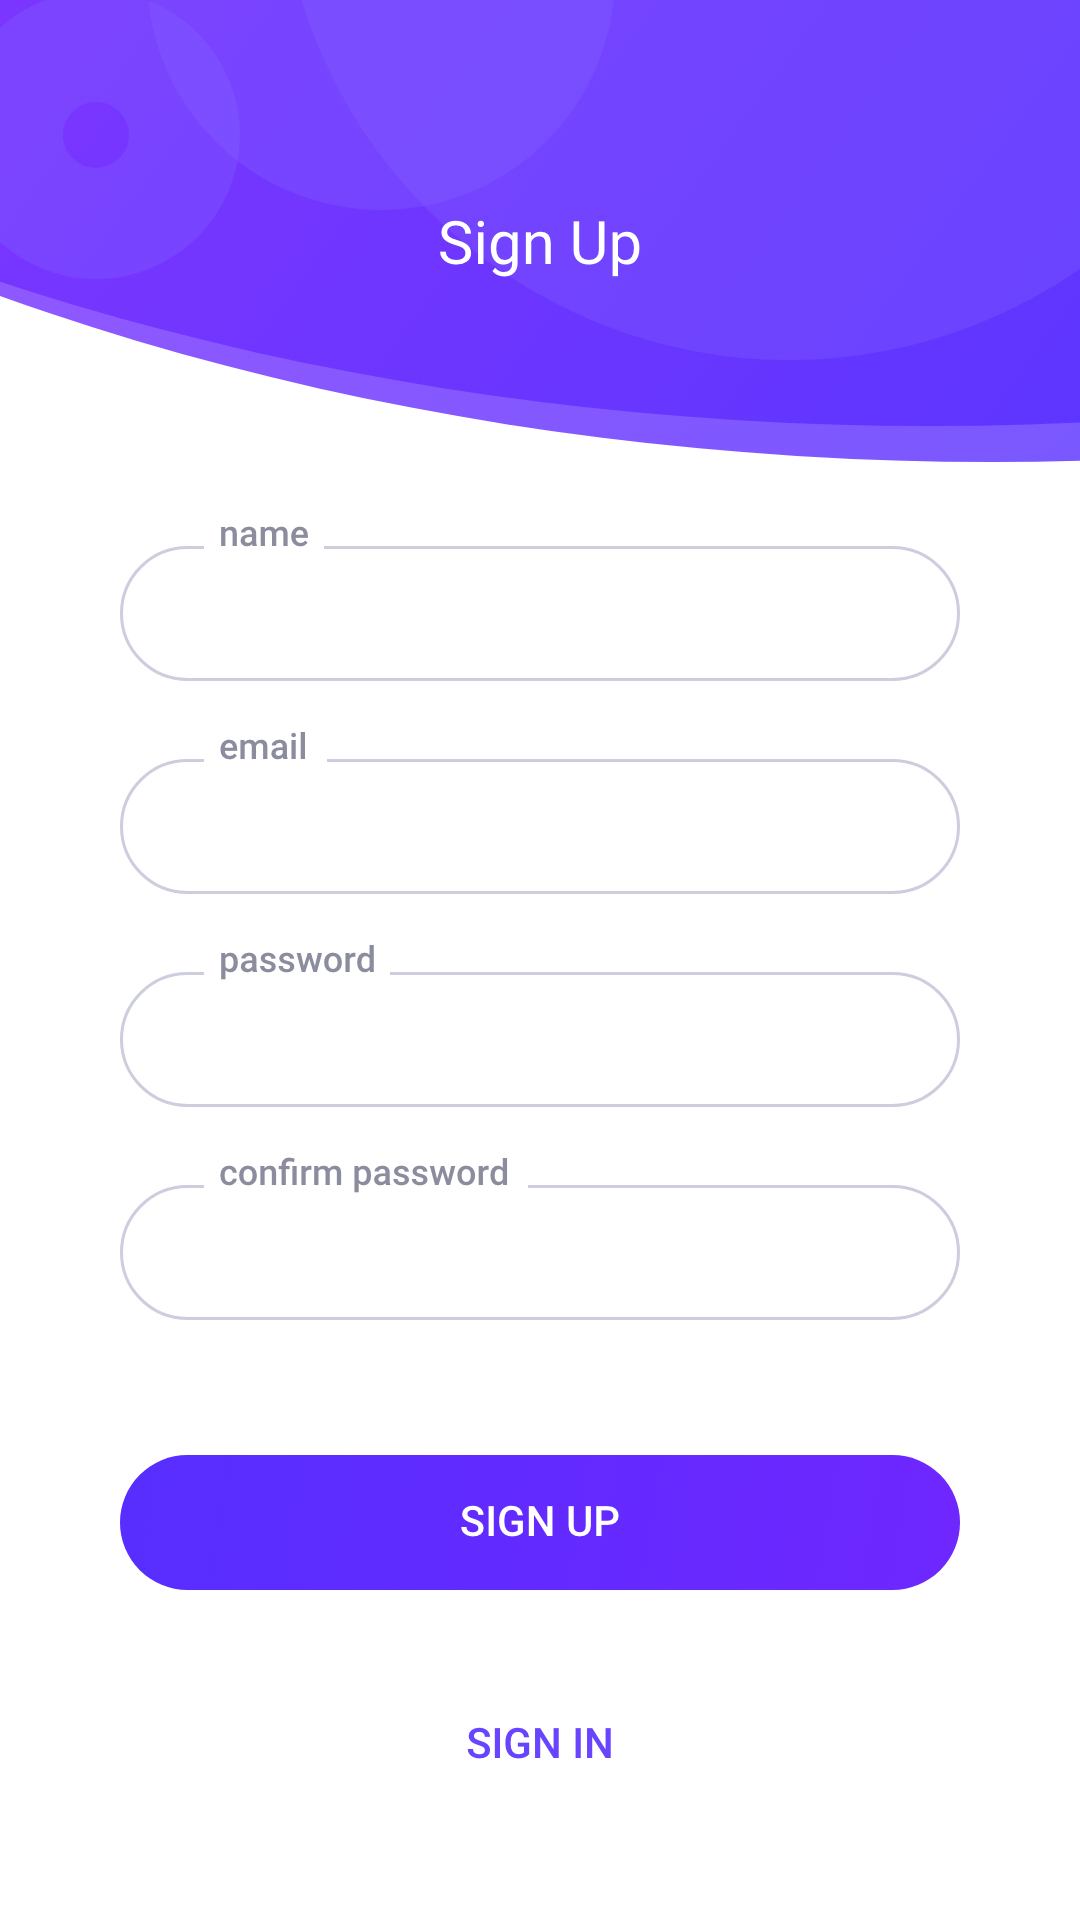EditText: (120, 1156, 961, 1321), (120, 944, 961, 1108), (120, 732, 961, 895), (120, 526, 961, 682)
Text: (439, 220, 641, 280), (220, 1156, 509, 1193), (220, 944, 375, 981), (467, 1727, 612, 1759), (220, 732, 306, 761), (222, 526, 309, 549)
TextButton: (120, 1455, 961, 1592)
